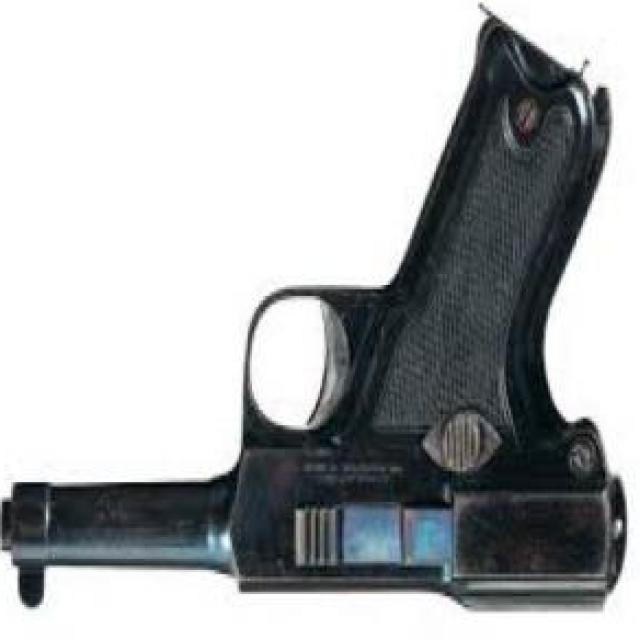pistol: (0, 39, 629, 620)
